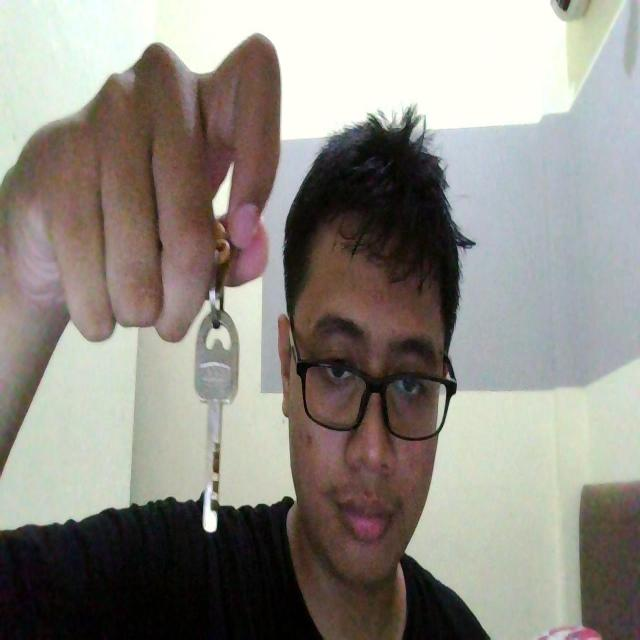kunci_pagar: (193, 298, 241, 544)
